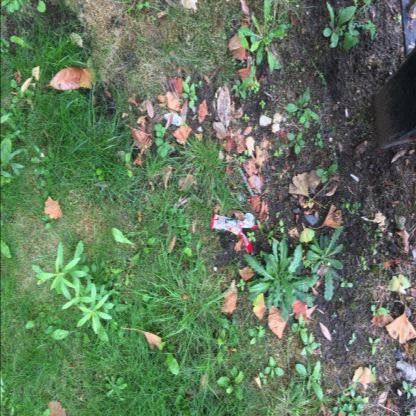Plastic bag - wrapper: (210, 213, 258, 254), (238, 167, 254, 197)
